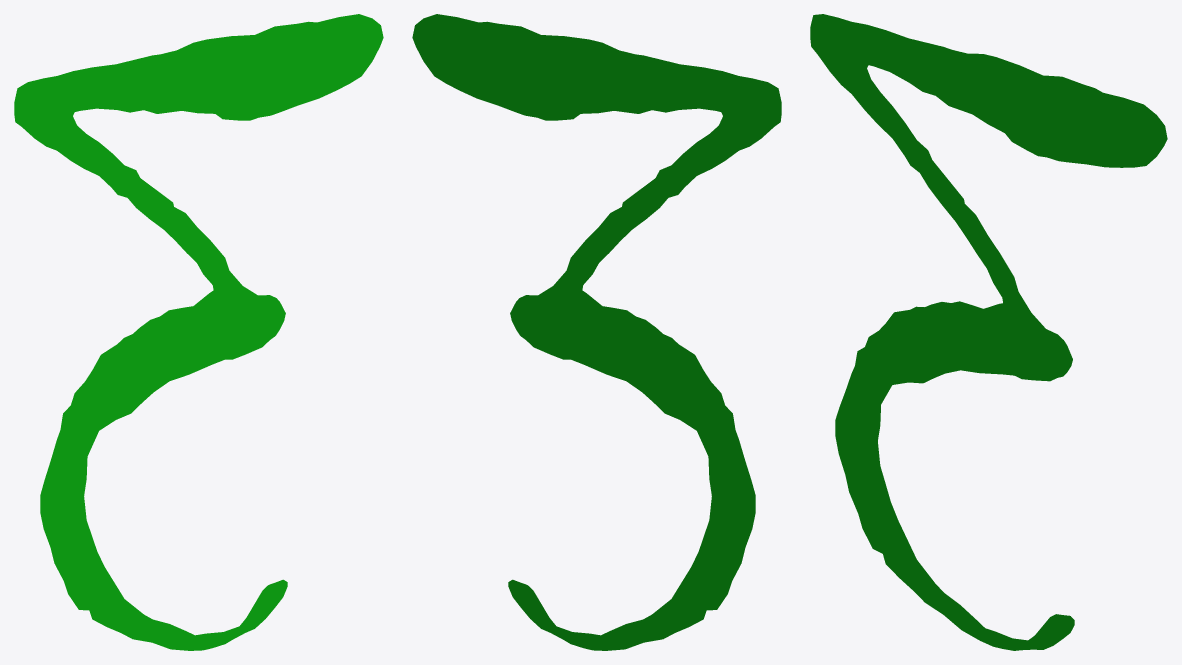
Rendered from hsthree.obj.
The picture shows the model from 3 angles, left to right: view 1: azimuth 30°, elevation 25°; view 2: azimuth 150°, elevation 25°; view 3: azimuth 330°, elevation 25°; orthographic projection. The views are drawn at different scales.
Visible parts, largest first — view 1: hsthree.008; view 2: hsthree.008; view 3: hsthree.008.
Part boxes in pixels (x1,y1,x2,y2): hsthree.008: (14, 14, 383, 650); hsthree.008: (412, 14, 781, 650); hsthree.008: (810, 14, 1167, 650).
Bounding box in the file's own units: 0.3631 × 0.5743 × 0.
